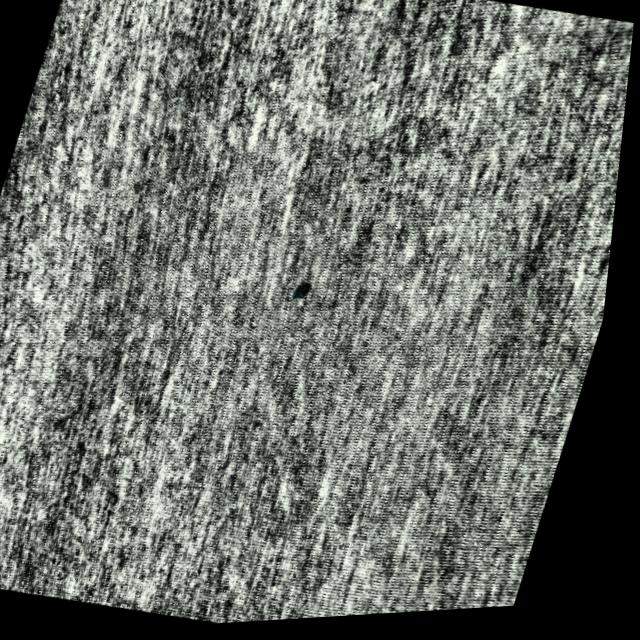Hole: (281, 273, 331, 319)
